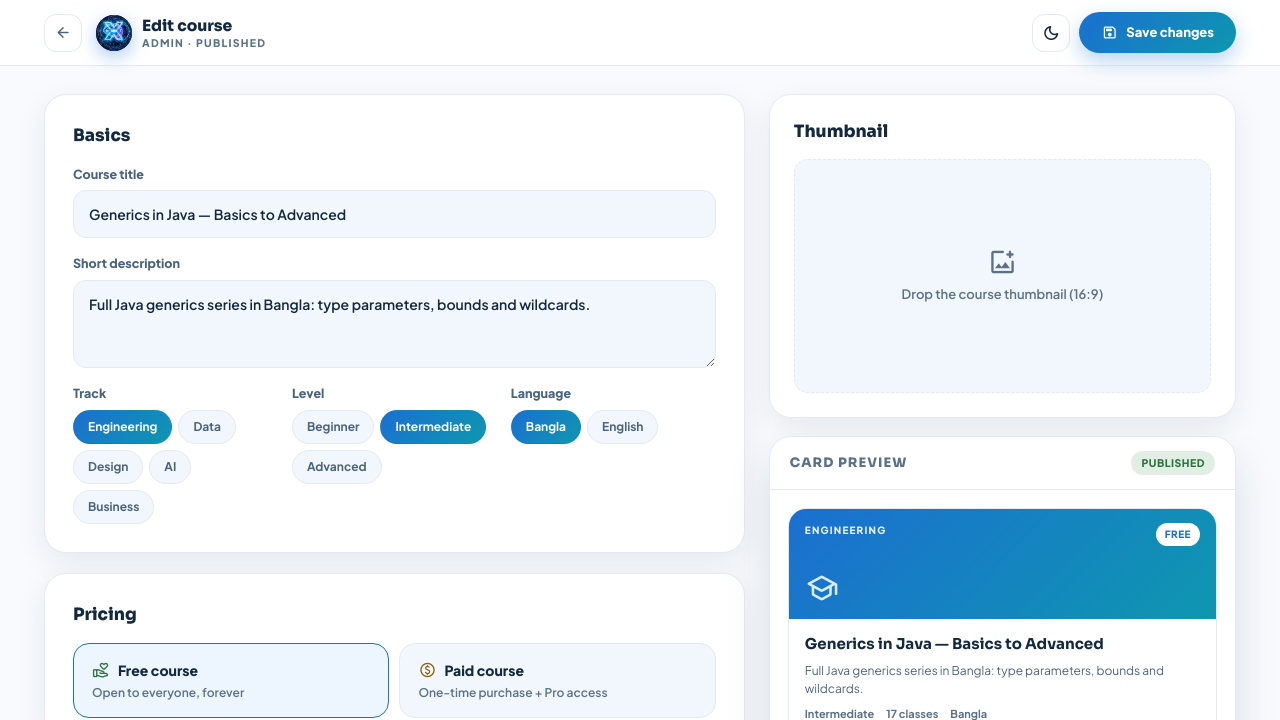
Test case: <AdminNewCourse /> edit mode › asks before leaving with unsaved changes
Type "!" into the field labelled "Course title". click: {"x": 394, "y": 214}
box: [73,190,716,238]
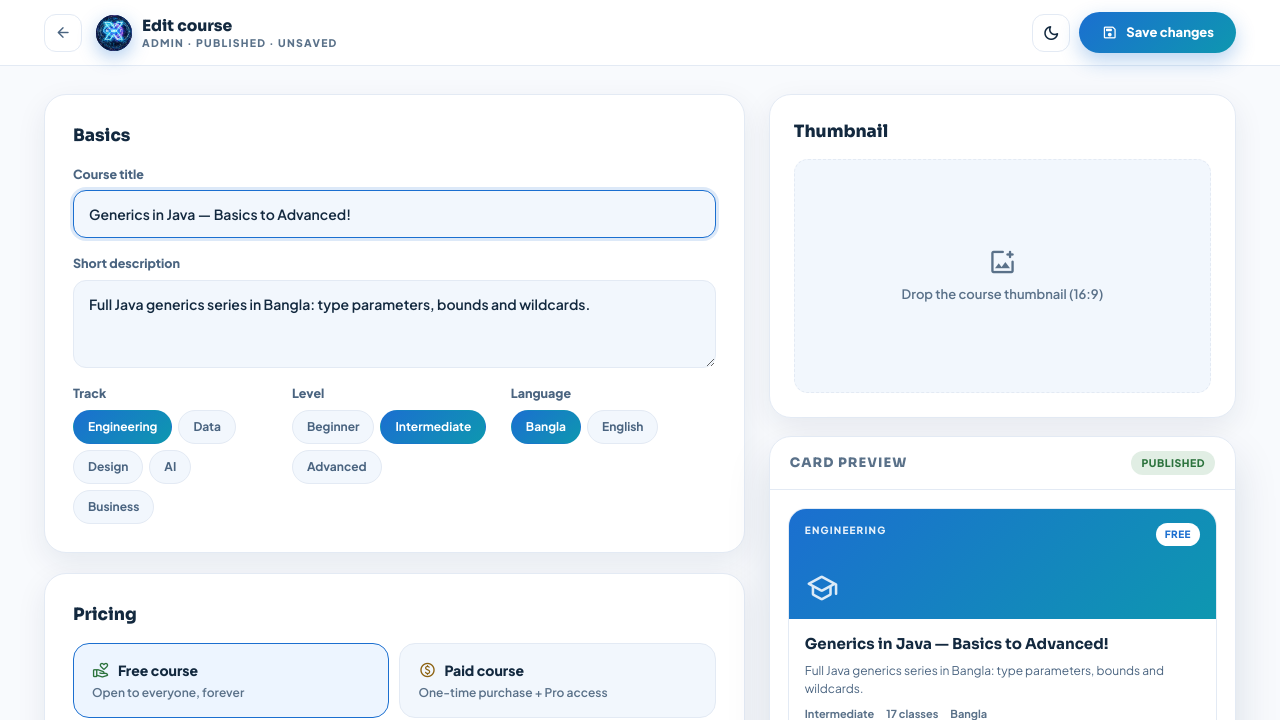
Click the link named "Back to admin". click: {"x": 63, "y": 32}
box: [44,14,82,52]
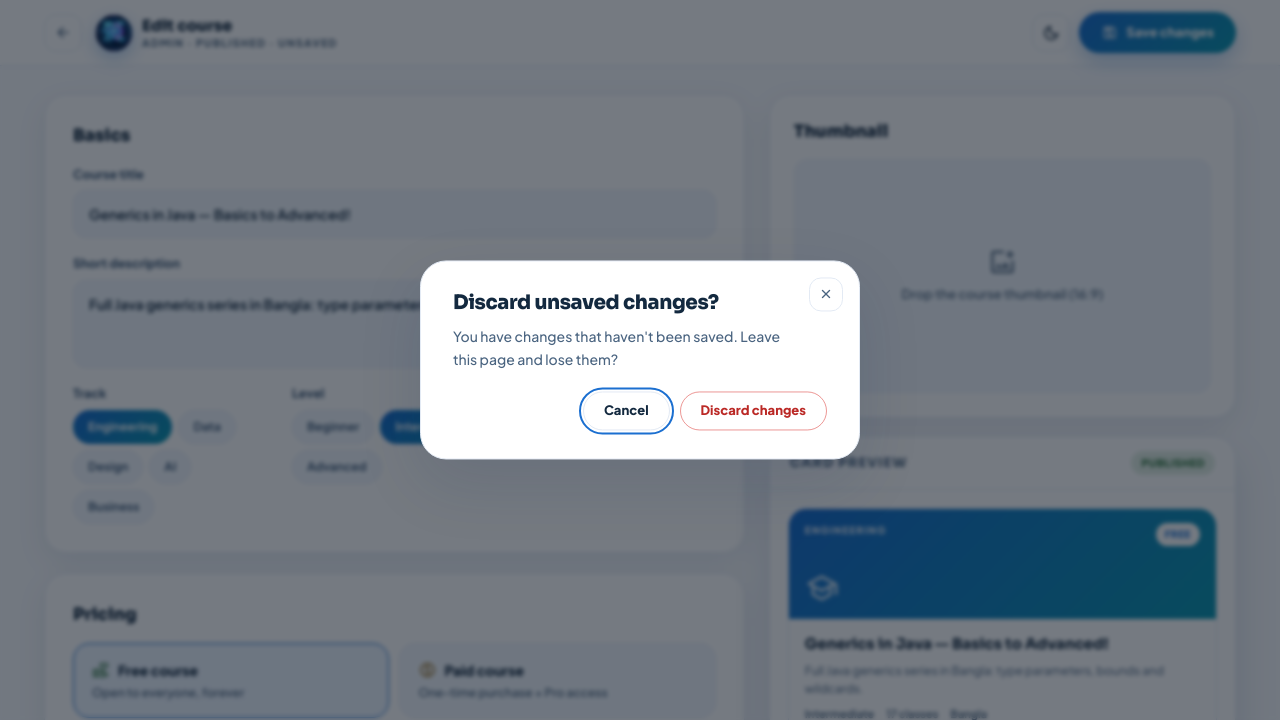
Check: the dialog "Discard unsaved changes?" is shown, box [420,260,860,460]
